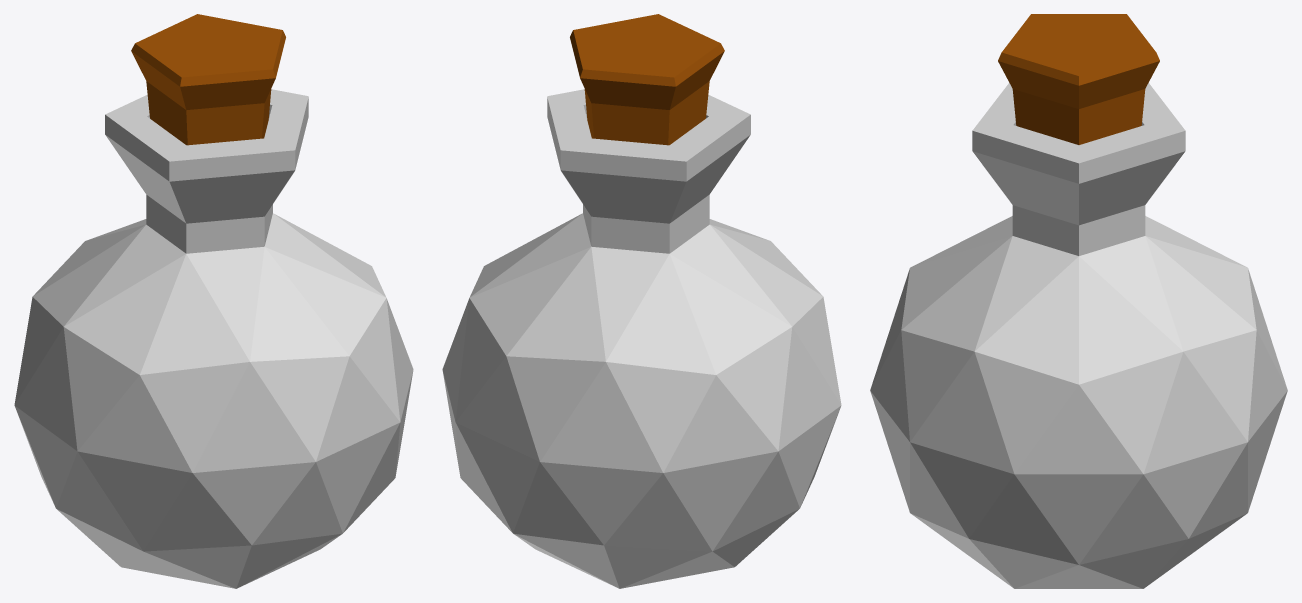
Rendered from potion_blue.fbx.
The picture shows the model from 3 angles, left to right: view 1: azimuth 30°, elevation 25°; view 2: azimuth 150°, elevation 25°; view 3: azimuth 270°, elevation 25°; orthographic projection. The views are drawn at different scales.
Parts seen in each view (by area): view 1: Icosphere, Icosphere.002; view 2: Icosphere, Icosphere.002; view 3: Icosphere, Icosphere.002.
Boxes of the visible parts, x1,y1,x2,y2 form: Icosphere: (14, 89, 413, 588); Icosphere.002: (131, 14, 285, 145); Icosphere: (442, 89, 841, 588); Icosphere.002: (570, 14, 724, 145); Icosphere: (870, 83, 1287, 588); Icosphere.002: (998, 14, 1159, 144).
Bounding box in the file's own units: 190 × 284 × 200.
